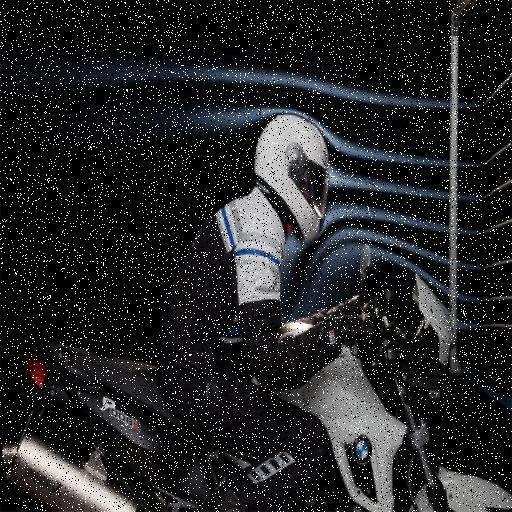Helmet: (255, 115, 328, 241)
Motor: (276, 248, 511, 511)
